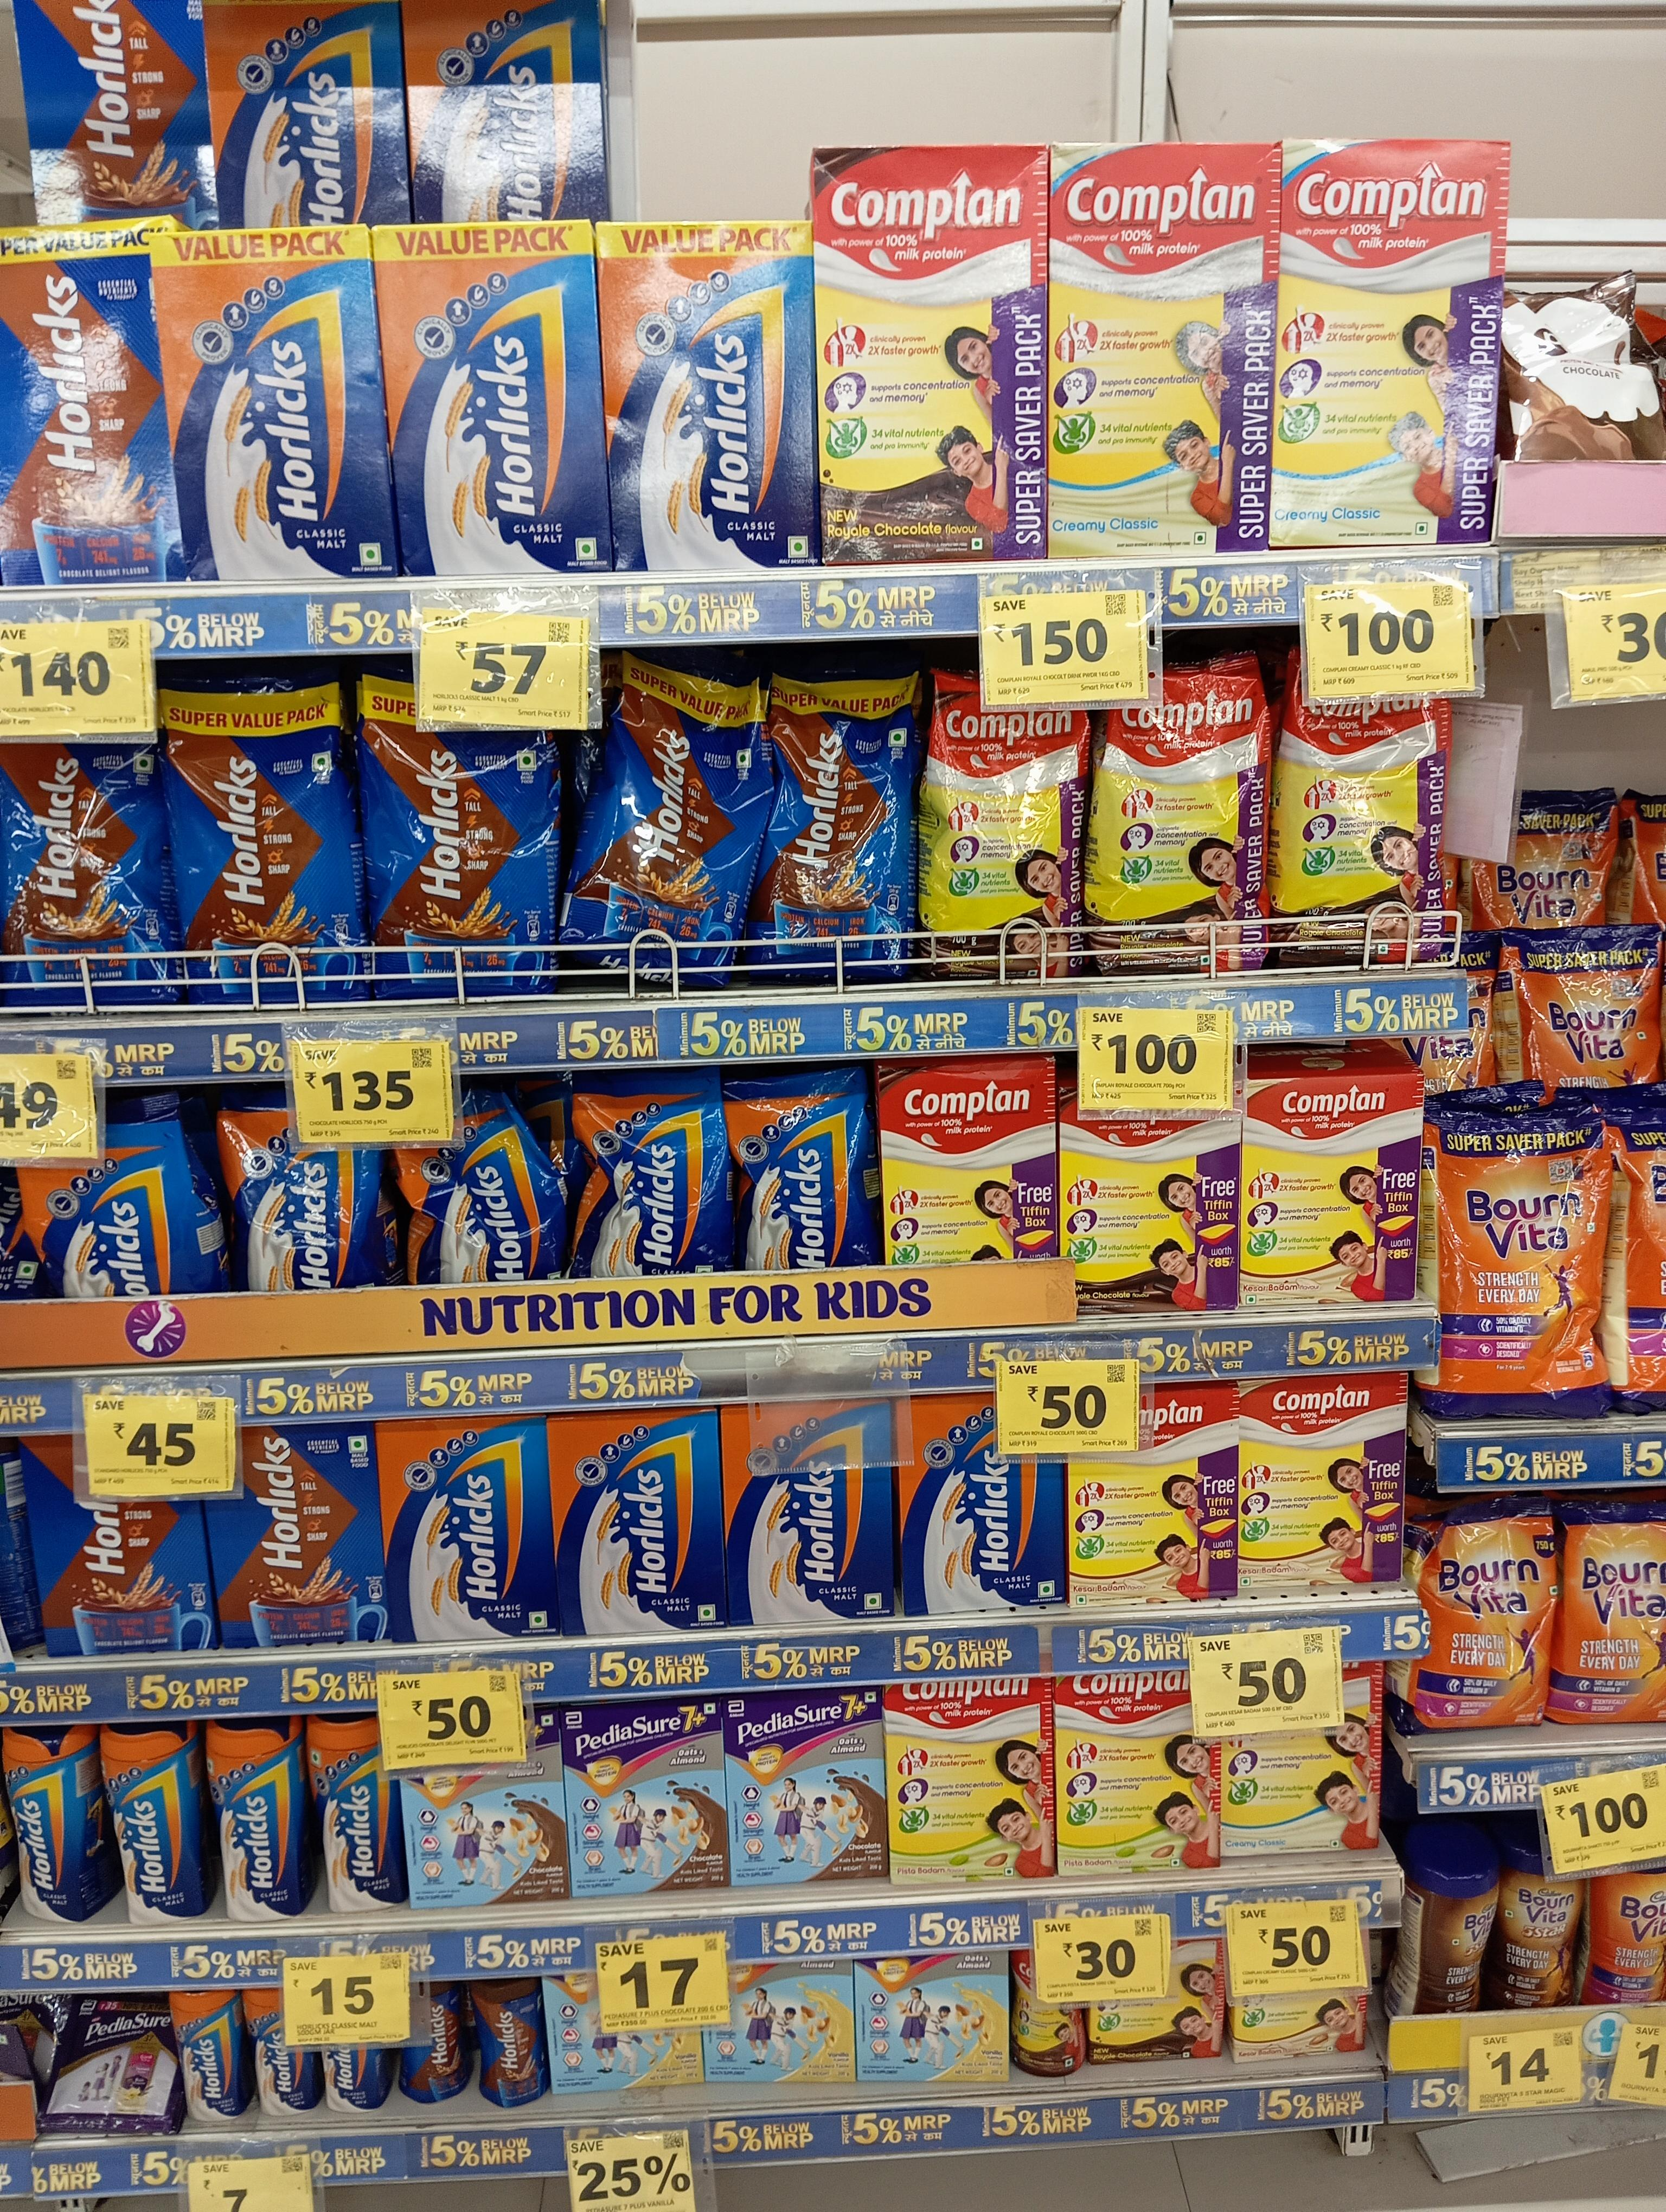COMPLAN_CHOCOLATE_1_KG_PACK: (819, 147, 1043, 558)
COMPLAN_CHOCOLATE_500_GMS_PACK: (1064, 1112, 1236, 1313)
COMPLAN_KESAR_BADAM_500_GMS_PACK: (1249, 1079, 1418, 1304), (1241, 1383, 1407, 1584), (1071, 1457, 1237, 1600)
COMPLAN_PISTA_BADAM_500_GMS_PACK: (887, 1684, 1054, 1883), (1059, 1712, 1220, 1868)
COMPLAN_RC_POUCH_700_GMS_12: (1090, 708, 1267, 972), (1278, 698, 1446, 965), (926, 698, 1081, 976)
HORLICK_CHOCOLATE_200_G_JAR: (476, 1981, 542, 2102), (410, 1983, 472, 2102)
